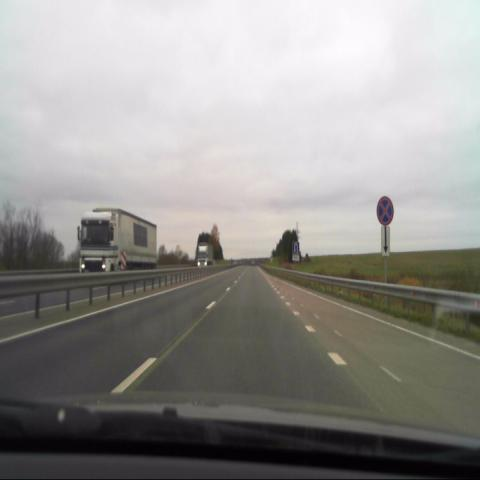8_2_3: (381, 225, 390, 256)
